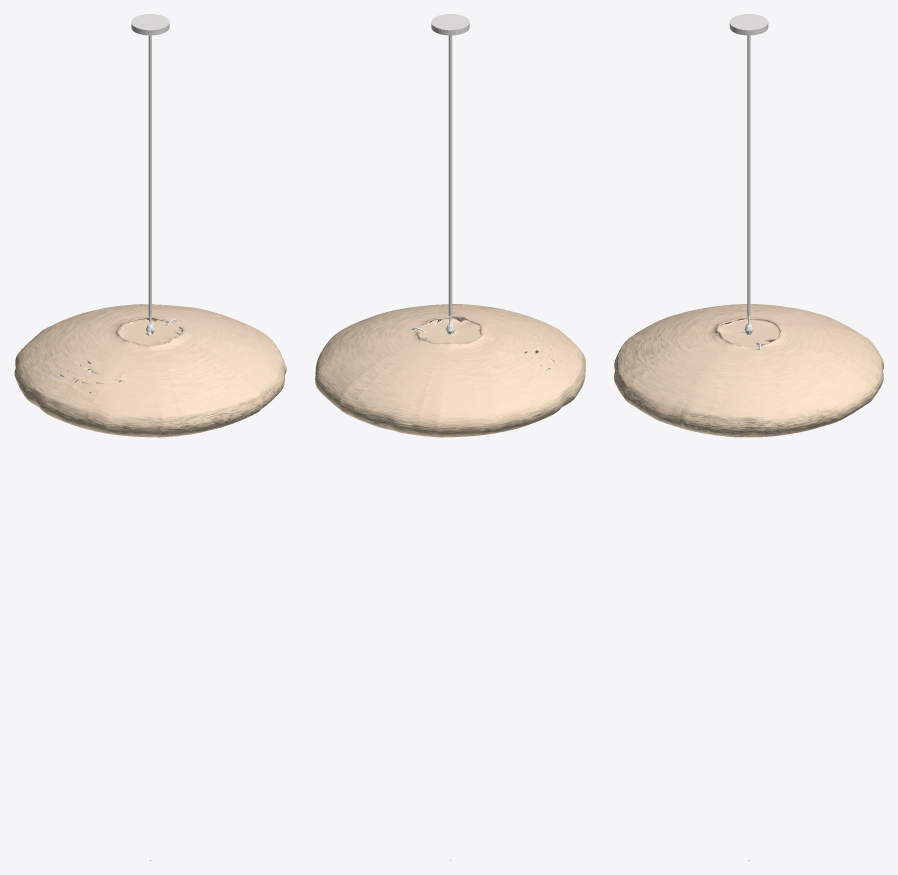
Rendered from ensui-d70.glb.
The picture shows the model from 3 angles, left to right: view 1: azimuth 30°, elevation 25°; view 2: azimuth 150°, elevation 25°; view 3: azimuth 270°, elevation 25°; orthographic projection.
Visible parts, largest first — view 1: tripo_node_980e5331-29eb-4741-bc4e-ed3519151ac7, cord_extension, cord_canopy; view 2: tripo_node_980e5331-29eb-4741-bc4e-ed3519151ac7, cord_extension, cord_canopy; view 3: tripo_node_980e5331-29eb-4741-bc4e-ed3519151ac7, cord_extension, cord_canopy.
Boxes of the visible parts, left/top/right/bottom form: tripo_node_980e5331-29eb-4741-bc4e-ed3519151ac7: left=14, top=304, right=286, bottom=437; cord_extension: left=148, top=21, right=151, bottom=316; cord_canopy: left=131, top=14, right=169, bottom=35; tripo_node_980e5331-29eb-4741-bc4e-ed3519151ac7: left=315, top=304, right=585, bottom=437; cord_extension: left=448, top=21, right=452, bottom=316; cord_canopy: left=431, top=14, right=469, bottom=35; tripo_node_980e5331-29eb-4741-bc4e-ed3519151ac7: left=614, top=304, right=883, bottom=437; cord_extension: left=747, top=21, right=750, bottom=316; cord_canopy: left=729, top=14, right=768, bottom=35.
Size of the model in its own units: 0.7 by 2.4 by 0.7.
Materials: 4 (1 with a texture image).
